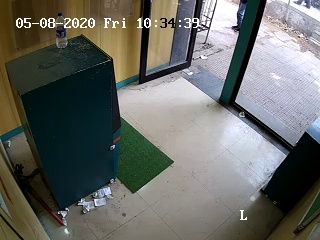open: (137, 5, 265, 119)
